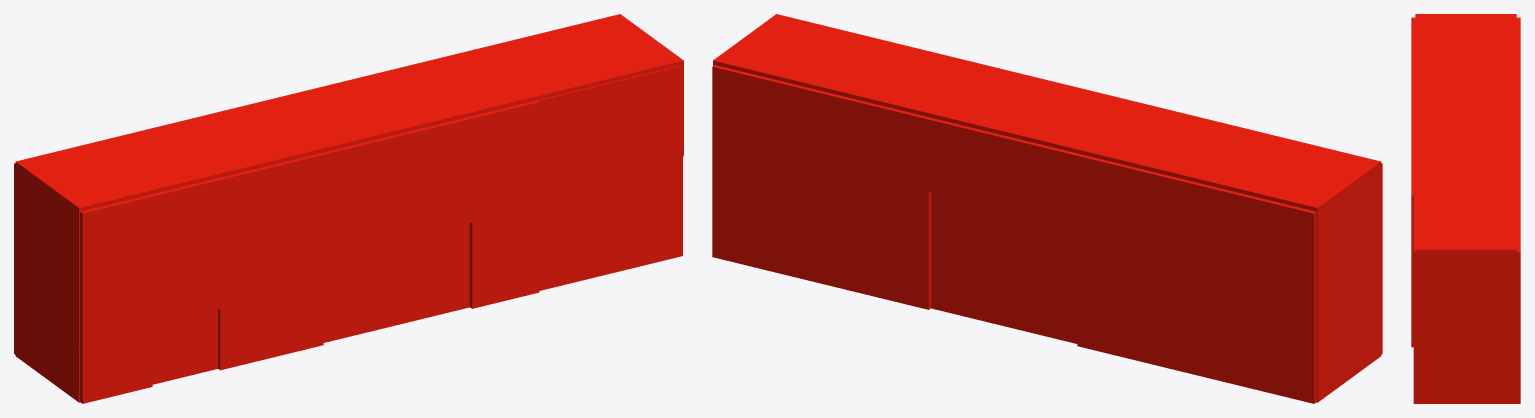
Rendered from LastplataformWholes.FBX.
The picture shows the model from 3 angles, left to right: view 1: azimuth 30°, elevation 25°; view 2: azimuth 150°, elevation 25°; view 3: azimuth 270°, elevation 25°; orthographic projection. The views are drawn at different scales.
Visible parts, largest first — view 1: Box099, Box100, Box098; view 2: Box097, Box100, Box098; view 3: Box100, Box097, Box098, Box099.
Part boxes in pixels (x1,y1,x2,y2): Box099: (80,101,539,403); Box100: (15,14,683,402); Box098: (222,65,682,307); Box097: (712,65,1316,403); Box100: (713,14,1381,402); Box098: (931,192,1077,343); Box100: (1415,14,1516,325); Box097: (1417,17,1520,403); Box098: (1413,72,1516,403); Box099: (1411,17,1415,347).
Size of the model in its own units: 392 by 121 by 76.97.
